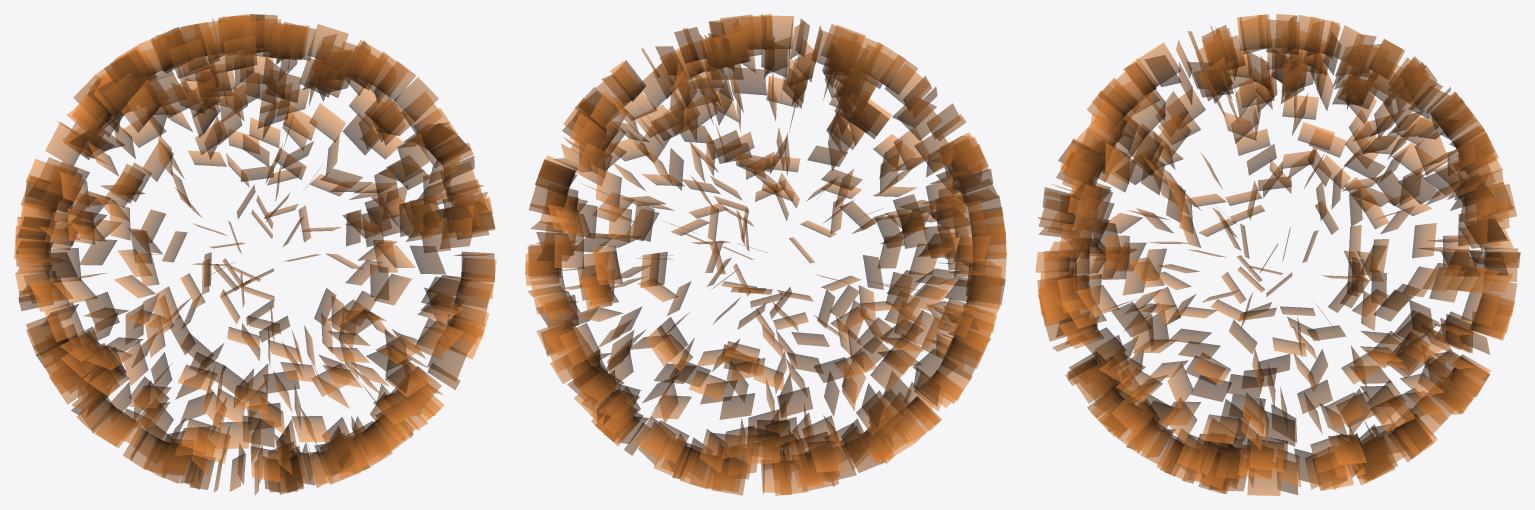
Rendered from sunFlares.fbx.
3 renders of one model, left to right at view 1: azimuth 30°, elevation 25°; view 2: azimuth 150°, elevation 25°; view 3: azimuth 270°, elevation 25°, orthographic.
Parts seen in each view (by area): view 1: SunFlares; view 2: SunFlares; view 3: SunFlares.
Part boxes in pixels (box(x1,y1,x2,y2)): SunFlares: box(14, 14, 496, 494); SunFlares: box(525, 14, 1006, 495); SunFlares: box(1035, 14, 1520, 495).
Size of the model in its own units: 76.17 by 76.19 by 76.06.
